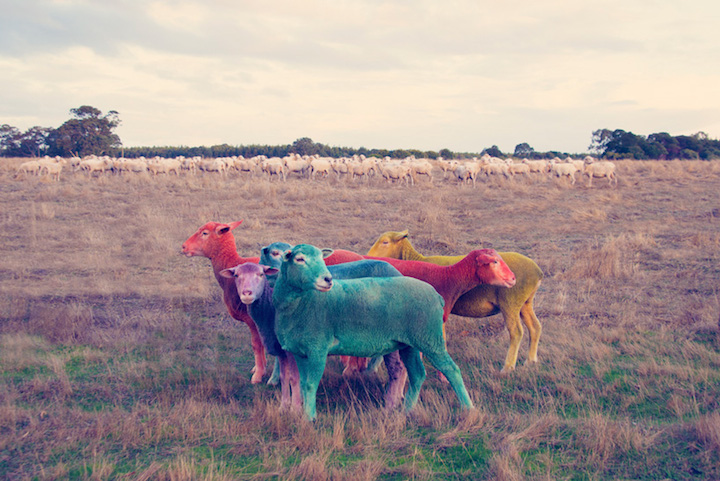sheep: (273, 243, 475, 413), (180, 222, 366, 391), (369, 227, 542, 375), (218, 260, 407, 386), (343, 245, 515, 378), (373, 159, 413, 187), (584, 157, 617, 183), (78, 155, 109, 181), (283, 155, 316, 179), (195, 156, 228, 180), (478, 158, 509, 183), (400, 161, 432, 185), (447, 163, 477, 187), (548, 159, 577, 182), (153, 154, 181, 177), (38, 159, 66, 181), (229, 160, 258, 178), (506, 161, 530, 180)
